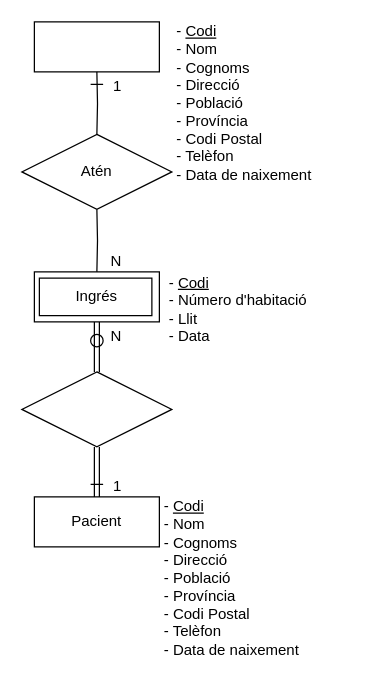
The diagram is 381 pixels wide and 681 high, and some of its shapes have lost their labels. Each missing label, with the centre of its shape:
"Metge" belongs at (x=96, y=46).
"Realitza" belongs at (x=96, y=409).
